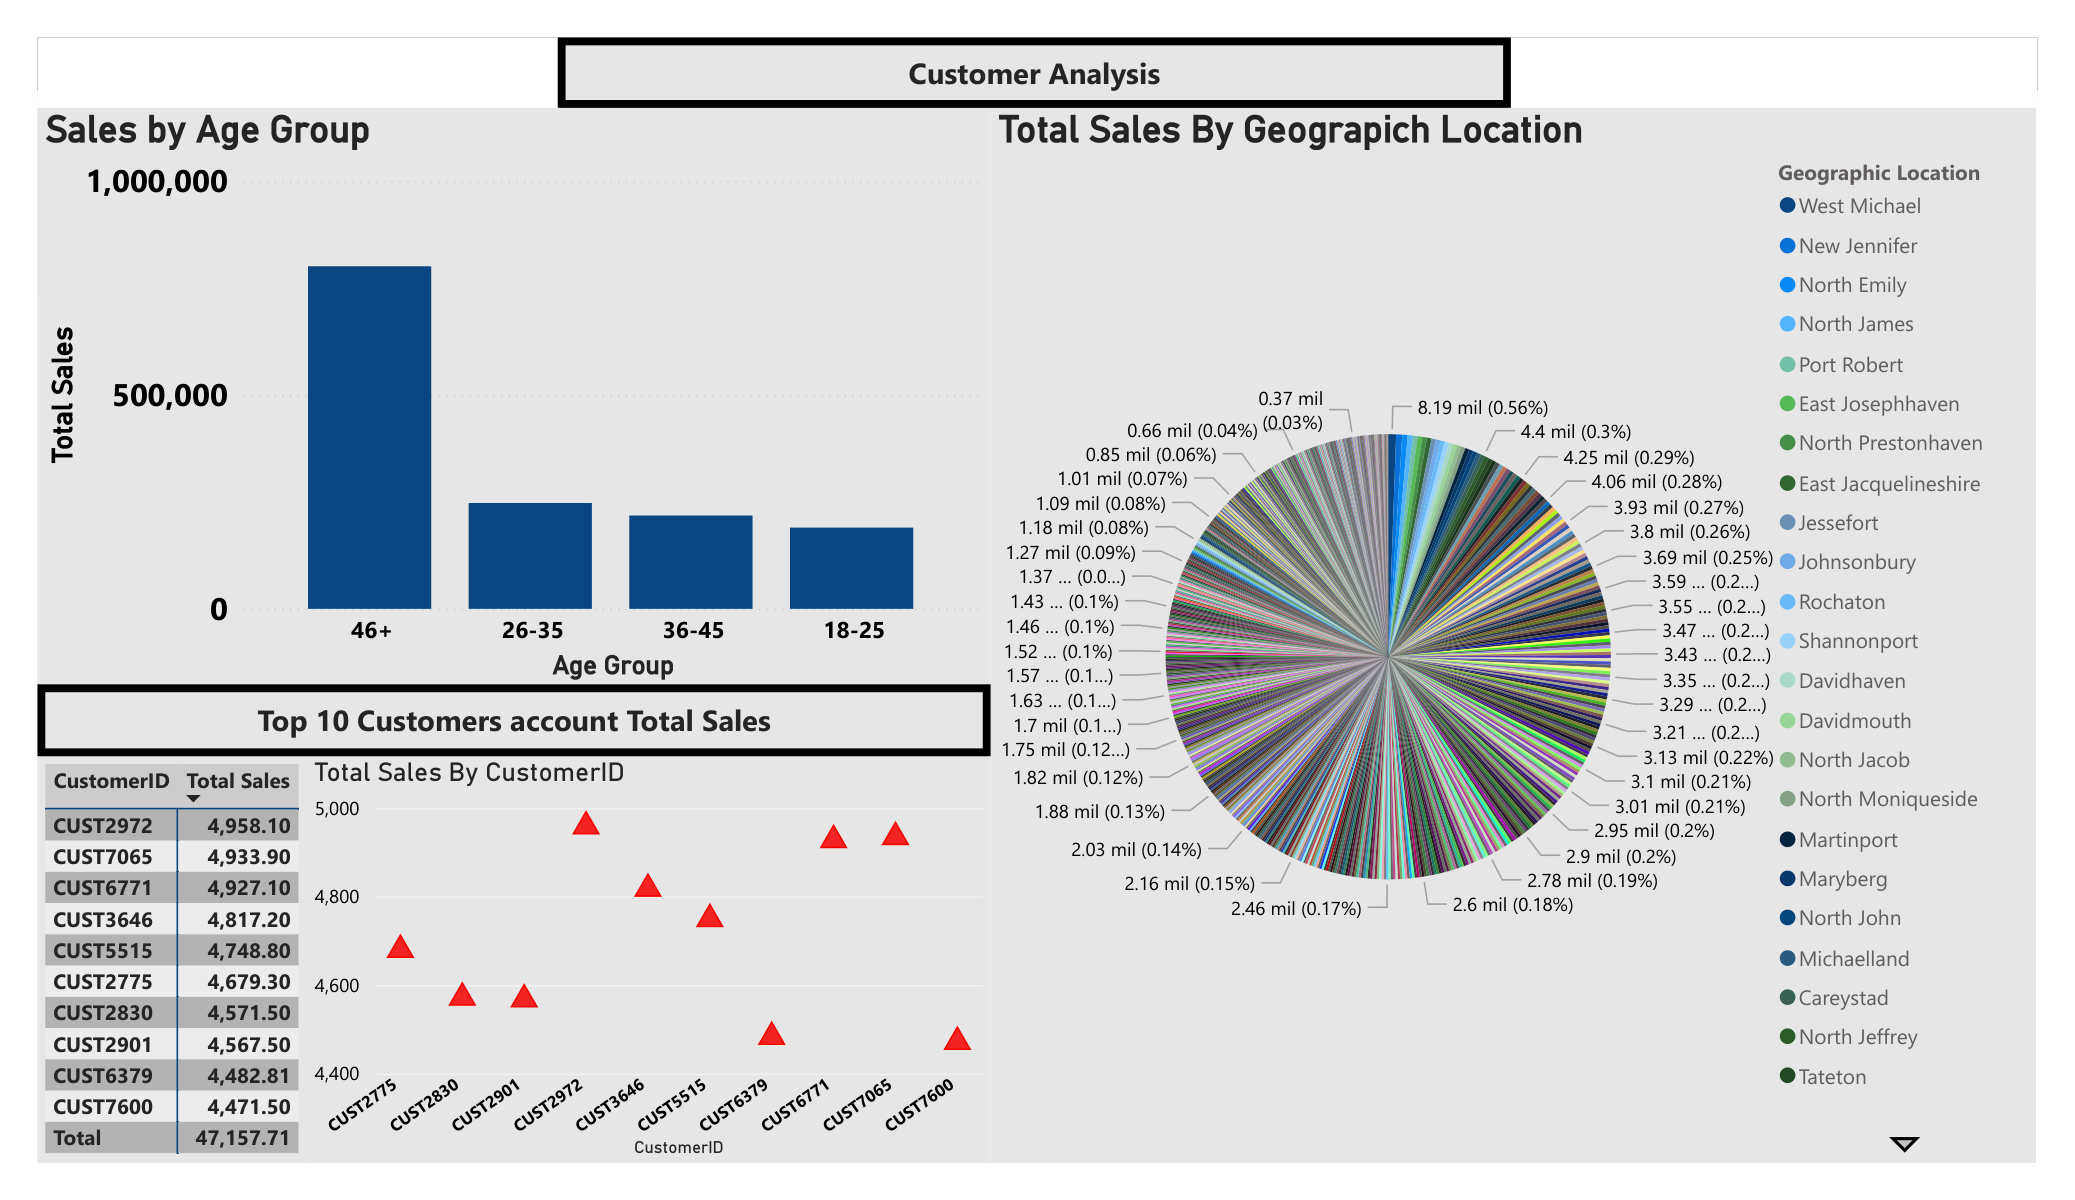

The page's visual inventory and layout, read from the dashboard file:
{"tool":"powerbi","page":{"name":"Customer Analysis","canvas":[1280,720],"ordinal":2},"visuals":[{"type":"clusteredColumnChart","title":"Sales by Age Group","fields":{"Category":["synthetic_ecommerce_data.RangoEdad"],"Y":["Sum(synthetic_ecommerce_data.Ventas Totales)"]},"box":[0,44.8,610.4,370.7],"z":0},{"type":"donutChart","title":"Total Sales By Geograpich Location","fields":{"Category":["synthetic_ecommerce_data.Ubicación Geográfica"],"Y":["Sum(synthetic_ecommerce_data.Ventas Totales)"]},"box":[610.4,44.8,669,675.9],"z":1000},{"type":"pivotTable","fields":{"Rows":["synthetic_ecommerce_data.CustomerID"],"Values":["Sum(synthetic_ecommerce_data.Ventas Totales)"]},"box":[0,460.4,172.4,260.4],"z":2000},{"type":"scatterChart","title":"Total Sales By CustomerID","fields":{"Y":["Sum(synthetic_ecommerce_data.Ventas Totales)"],"X":["synthetic_ecommerce_data.CustomerID"]},"box":[172.4,460.4,438,260.4],"z":3000},{"type":"textbox","box":[332.8,0,610.4,44.8],"z":4000},{"type":"textbox","box":[0,414,610,46],"z":5000}]}

Visuals, with their boxes on the page's 1280x720 design canvas (x1, y1, x2, y2). These are canvas units, not pixel positions in the 2075x1200 screenshot, which may show the page scaled, cropped or inside an application window:
"Sales by Age Group" clusteredColumnChart: [left=0, top=45, right=610, bottom=416]
"Total Sales By Geograpich Location" donutChart: [left=610, top=45, right=1279, bottom=721]
pivotTable - synthetic_ecommerce_data.CustomerID x Sum(synthetic_ecommerce_data.Ventas Totales): [left=0, top=460, right=172, bottom=721]
"Total Sales By CustomerID" scatterChart: [left=172, top=460, right=610, bottom=721]
textbox: [left=333, top=0, right=943, bottom=45]
textbox: [left=0, top=414, right=610, bottom=460]
